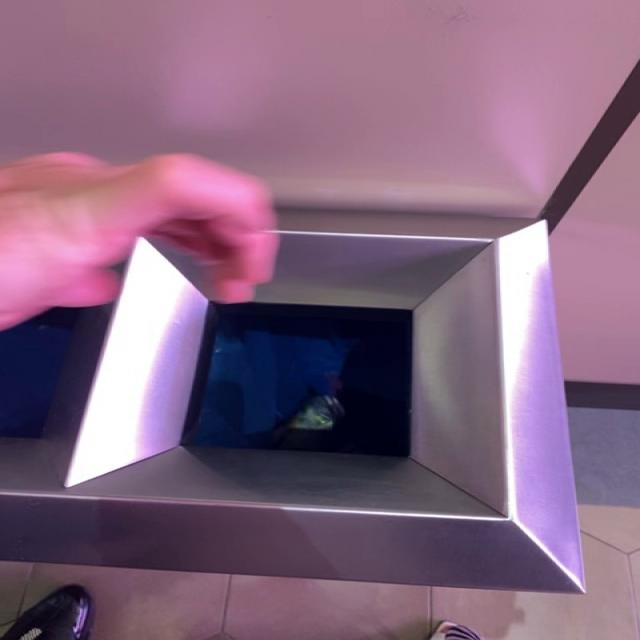bin: (3, 211, 584, 594)
metal: (288, 396, 345, 432)
